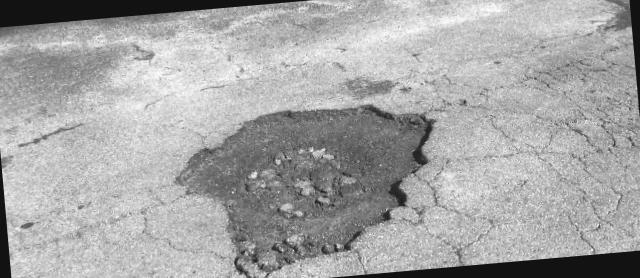Pothole: (151, 63, 484, 278)
